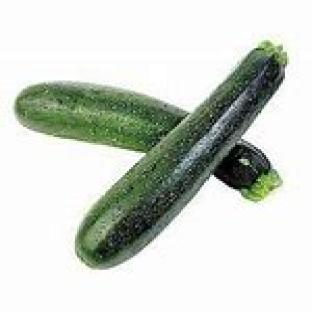Zucchini: (75, 45, 284, 267), (15, 83, 187, 150)
